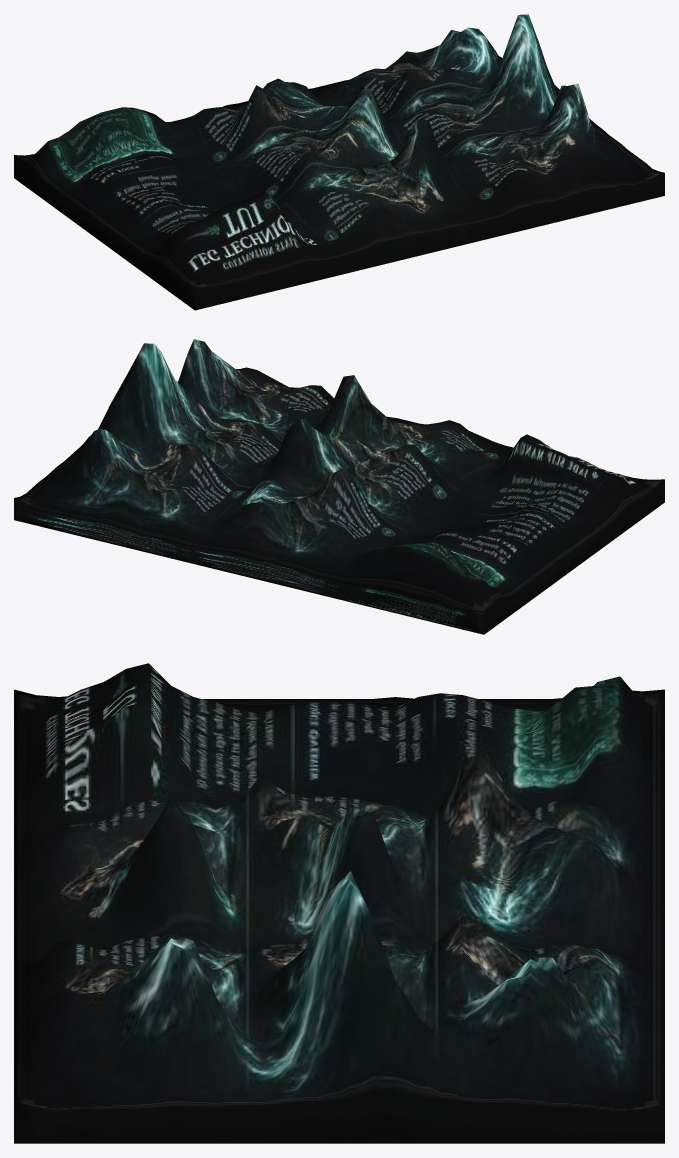
The model's file is CUL_18_Leg_Tui.glb.
3 views of the same model, one above another, from view 1: azimuth 30°, elevation 25°; view 2: azimuth 150°, elevation 25°; view 3: azimuth 270°, elevation 25° (orthographic). The views are drawn at different scales.
Visible parts, largest first — view 1: CUL_18_Leg_Tui; view 2: CUL_18_Leg_Tui; view 3: CUL_18_Leg_Tui.
Boxes of the visible parts, x1,y1,x2,y2 form: CUL_18_Leg_Tui: (14, 14, 664, 310); CUL_18_Leg_Tui: (14, 339, 664, 634); CUL_18_Leg_Tui: (14, 663, 664, 1143).
Size of the model in its own units: 2 by 0.51 by 1.33.
1 material, 1 textured.
